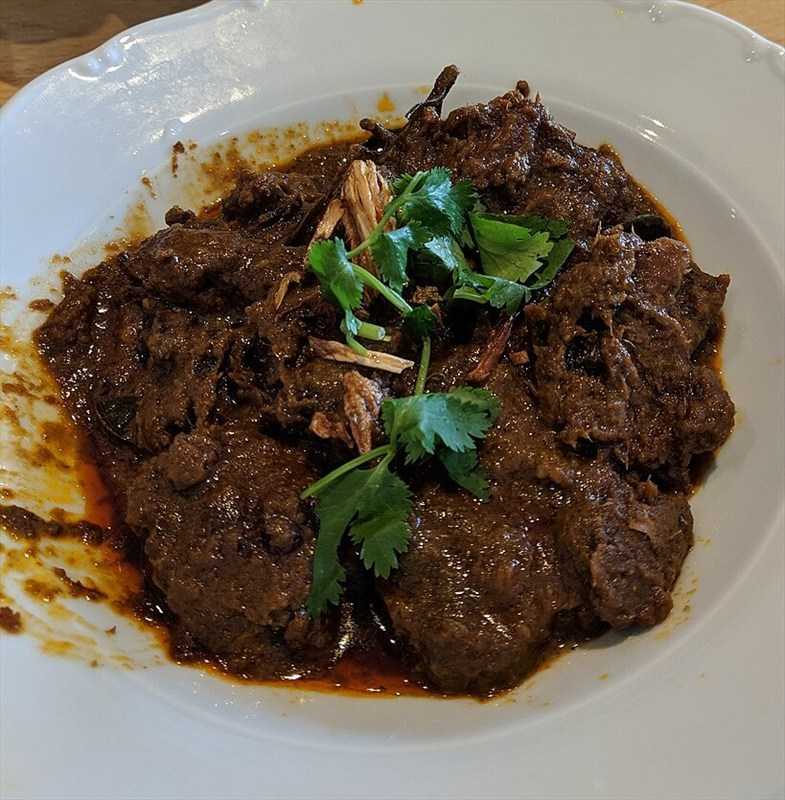Rendang: (41, 119, 685, 688)
